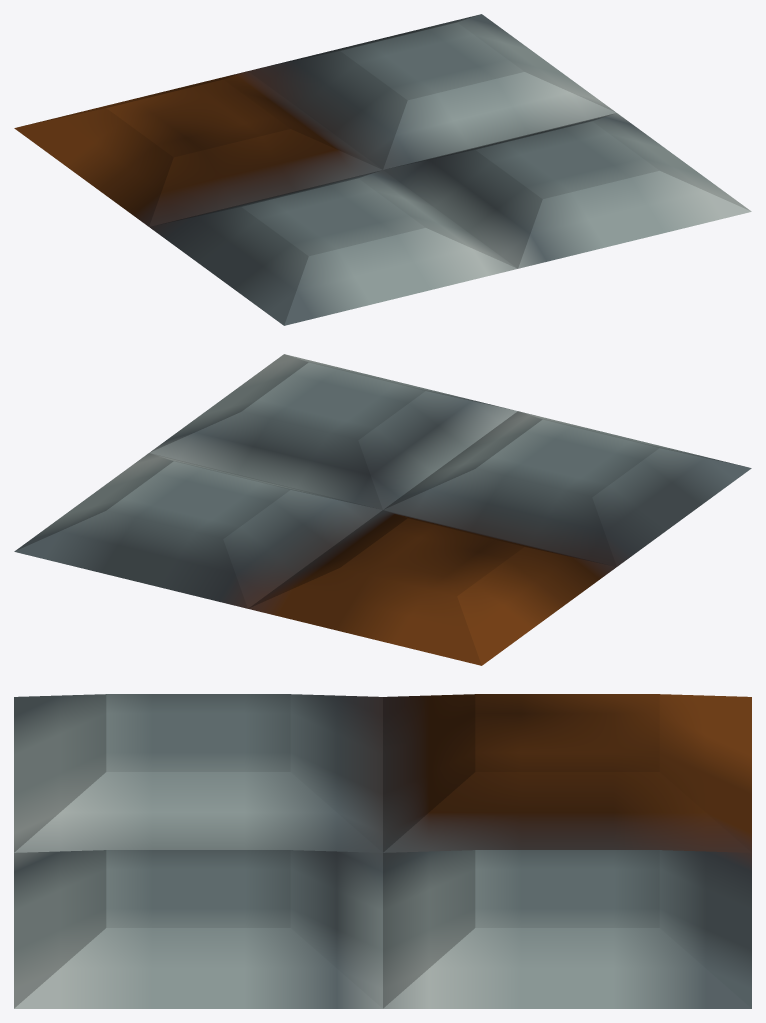
Rendered from floor_2_f.obj.
The picture shows the model from 3 angles, top to bottom: view 1: azimuth 30°, elevation 25°; view 2: azimuth 150°, elevation 25°; view 3: azimuth 270°, elevation 25°; orthographic projection. The views are drawn at different scales.
Visible parts, largest first — view 1: Default; view 2: Default; view 3: Default.
Part boxes in pixels (x1=…): Default: x1=14, y1=14, x2=751, y2=325; Default: x1=14, y1=354, x2=751, y2=665; Default: x1=14, y1=694, x2=751, y2=1008.
Bounding box in the file's own units: 1 × 0.0625 × 1.
